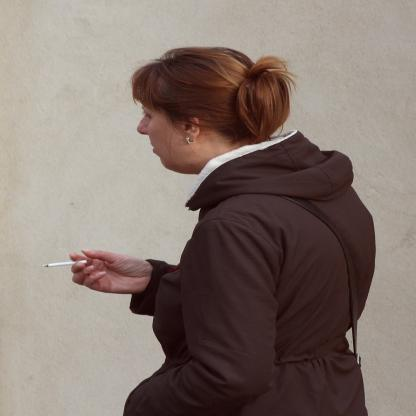smoking: (43, 260, 87, 267)
